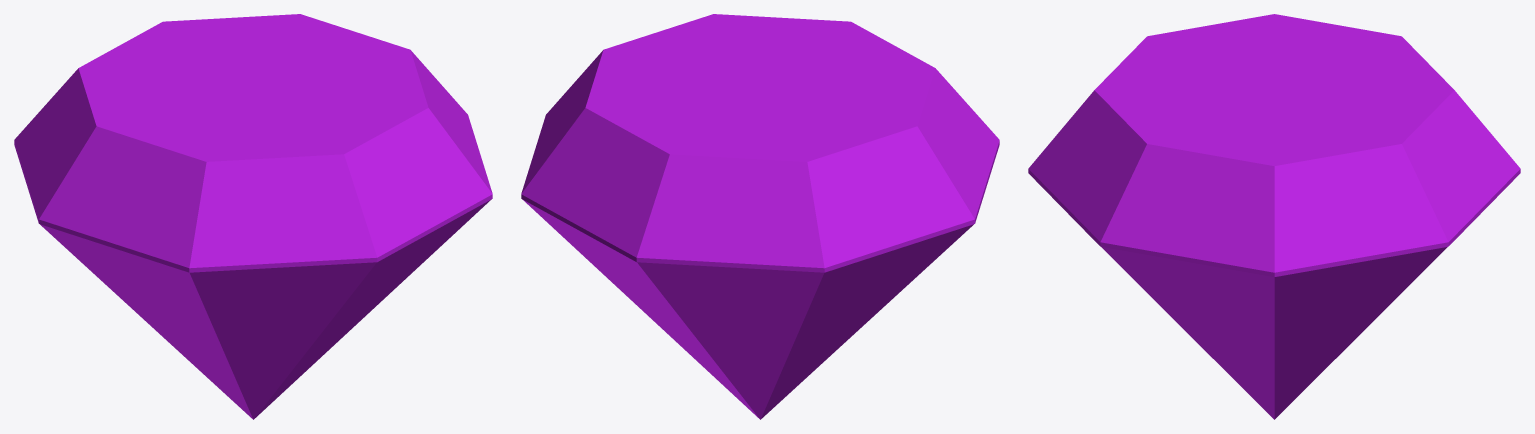
The picture shows the model from 3 angles, left to right: view 1: azimuth 30°, elevation 25°; view 2: azimuth 150°, elevation 25°; view 3: azimuth 270°, elevation 25°; orthographic projection.
Visible parts, largest first — view 1: Walec, stożek; view 2: Walec, stożek; view 3: Walec, stożek.
Part boxes in pixels (<box>): Walec: <box>14,14,492,272</box>; stożek: <box>40,199,491,419</box>; Walec: <box>521,14,999,272</box>; stożek: <box>522,199,973,419</box>; Walec: <box>1028,14,1520,276</box>; stożek: <box>1101,247,1447,419</box>.
Bounding box in the file's own units: 100 × 73.93 × 100.
